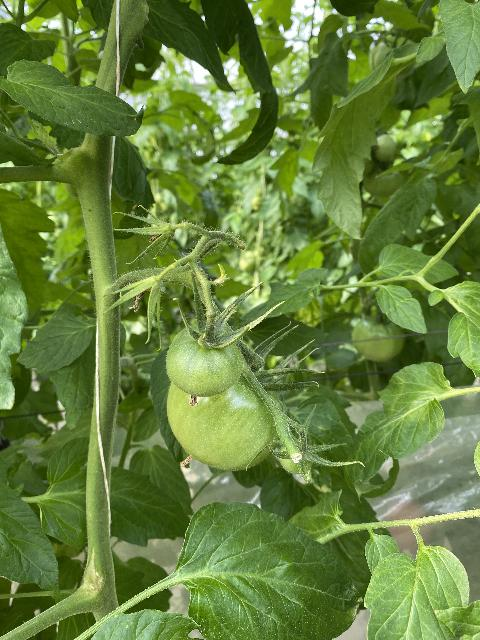b_green: (167, 363, 284, 471), (165, 325, 243, 399), (280, 445, 313, 474)
